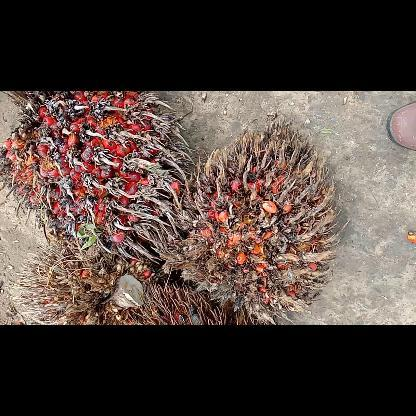Terlalu masak: (174, 119, 346, 321), (0, 91, 192, 267), (18, 238, 174, 324)
